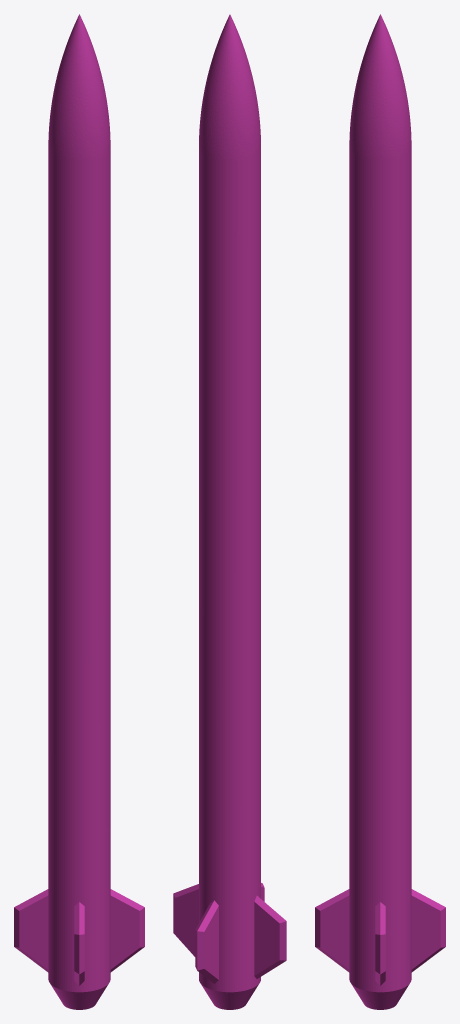
The model's file is Rocket.glb.
3 renders of one model, left to right at view 1: azimuth 90°, elevation 25°; view 2: azimuth 150°, elevation 25°; view 3: azimuth 270°, elevation 25°, orthographic.
Visible parts, largest first — view 1: Mesh; view 2: Mesh; view 3: Mesh.
Part boxes in pixels (x1,y1,x2,y2): Mesh: (14, 14, 144, 1009); Mesh: (173, 14, 286, 1009); Mesh: (315, 14, 445, 1009).
Bounding box in the file's own units: 1.2 × 10 × 1.2.
